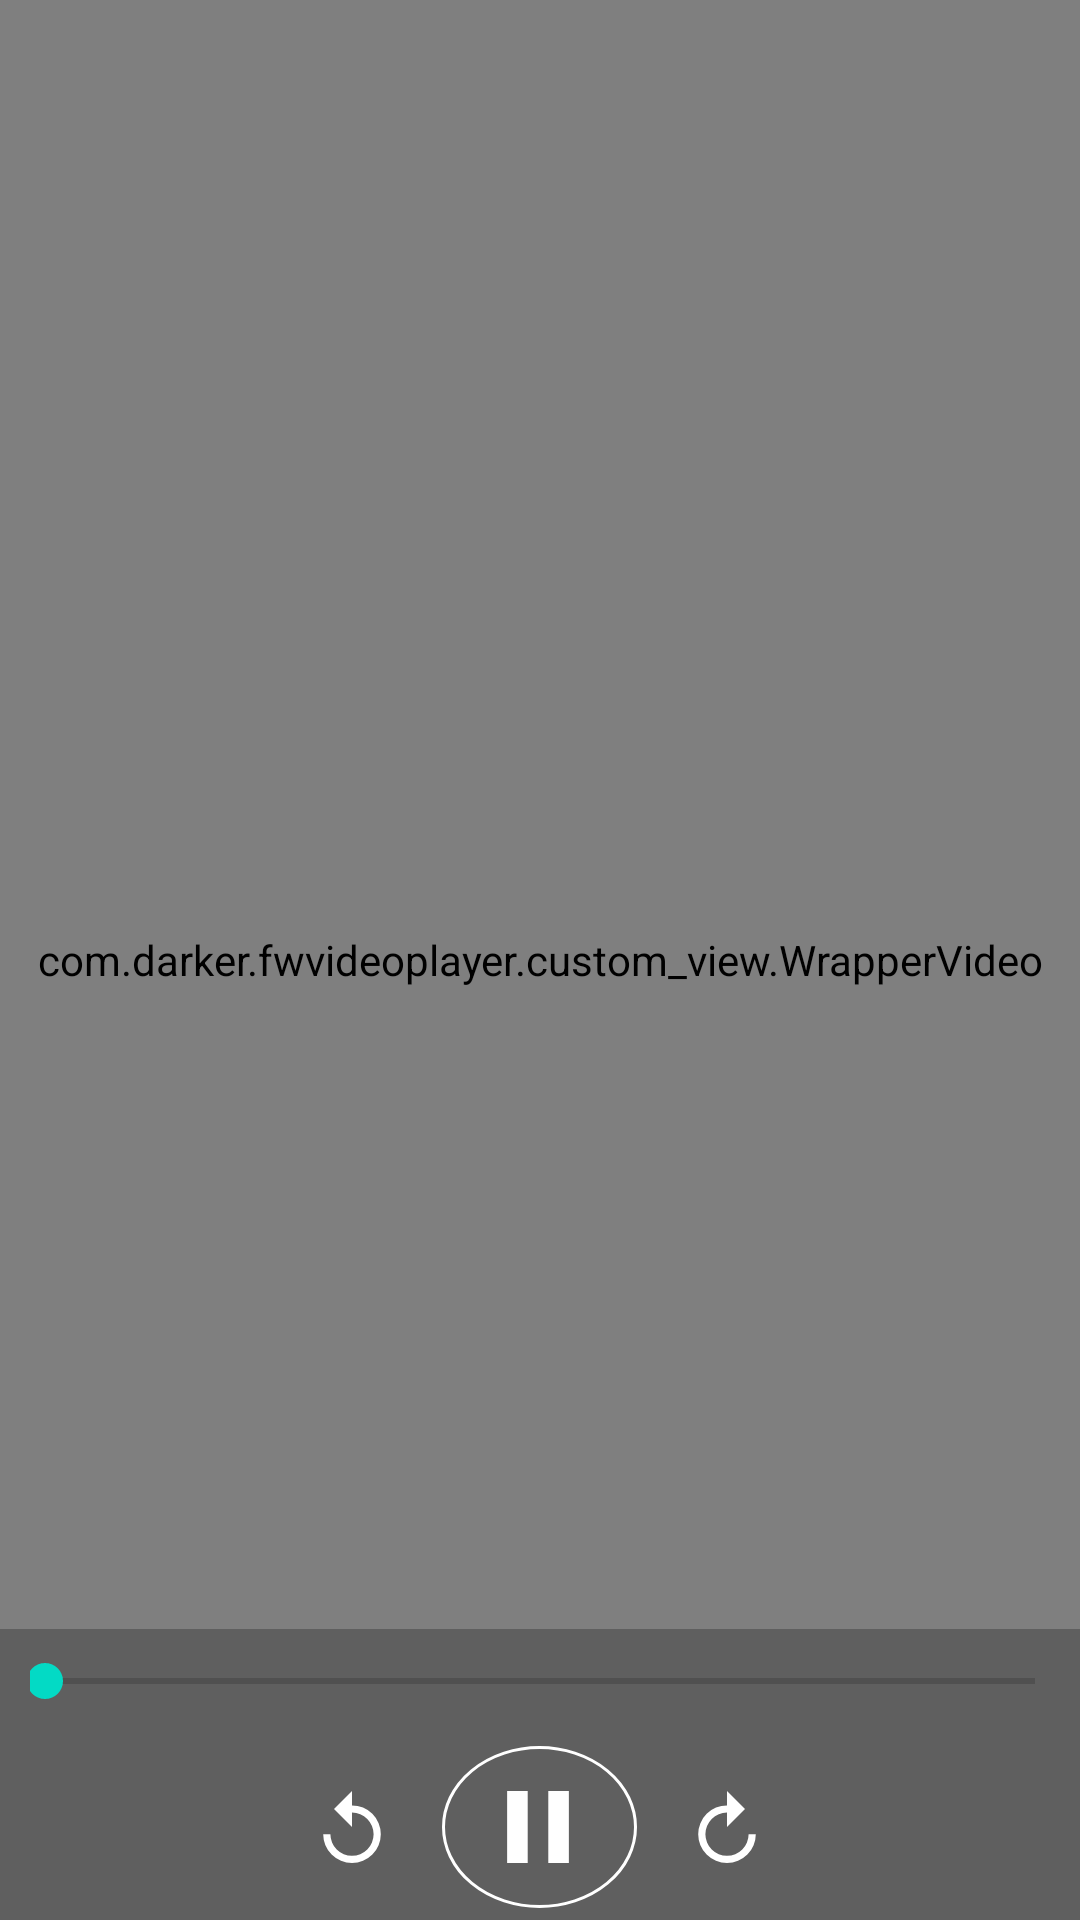

Locate icon controls on the screen. Image size 1080w x 1920h, boxes as rect(x1, y1, x2, y2).
hplib forward: rect(698, 1791, 756, 1863)
hplib pause: rect(507, 1791, 569, 1863)
hplib rewind: rect(323, 1791, 381, 1863)
